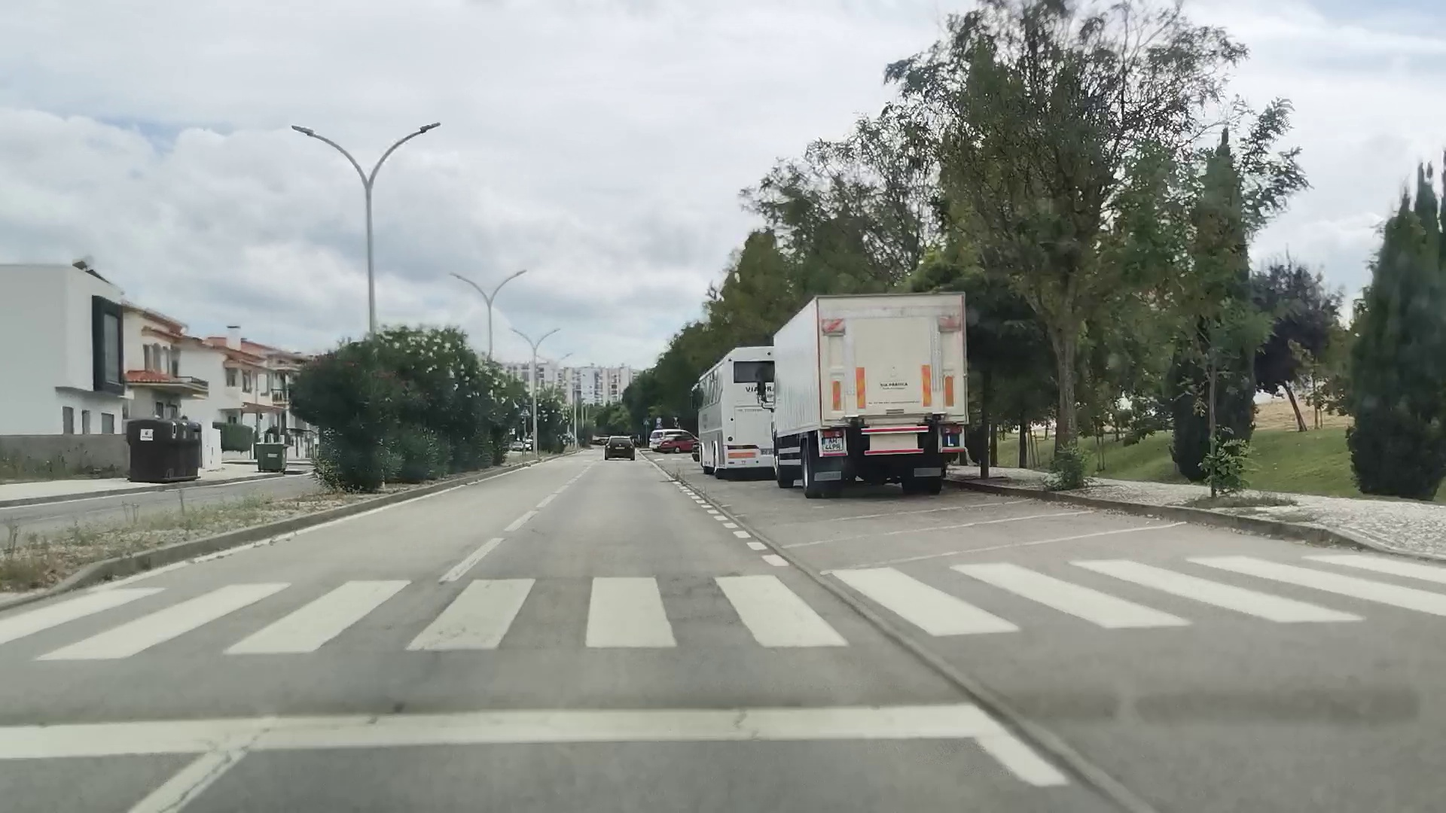Stairs: (0, 547, 1446, 661)
